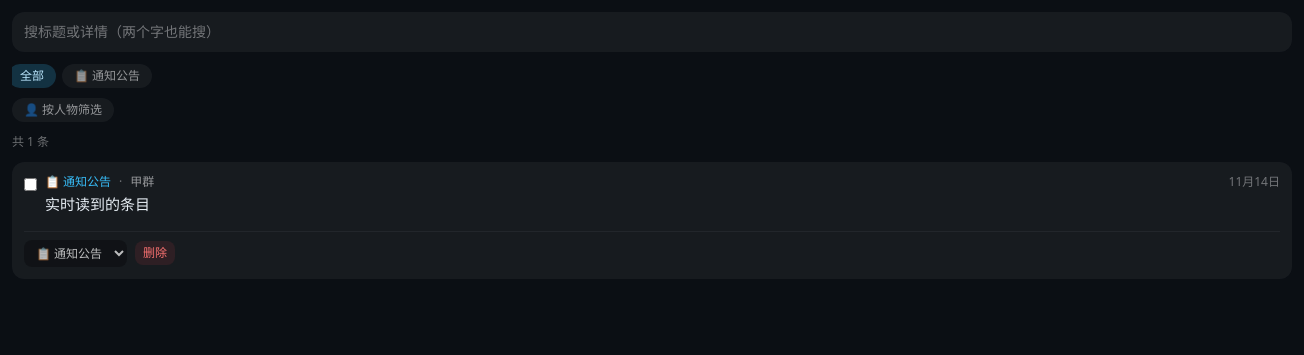
Test: ⚠️「清空选择」**不**随离线置灰:它是纯本地动作(不发请求,与 G9 无关)
Expected: the text "实时读到的条目" is shown, [45,194,150,214]
Click the checkbox named "选择 实时读到的条目": (30, 184) [24,178,37,191]
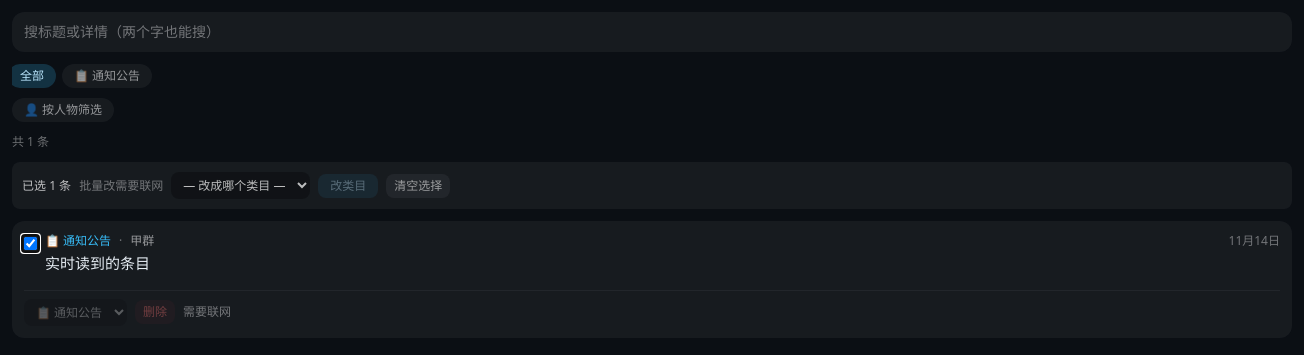
Expected: the button "清空选择" is enabled
Click the button "清空选择": (418, 186) [386,174,450,198]
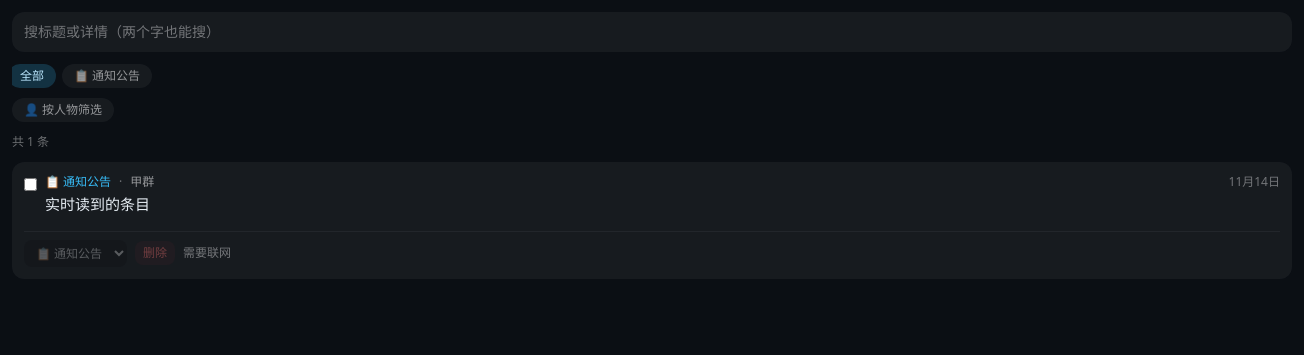
Expected: the text "已选 1 条" is gone
